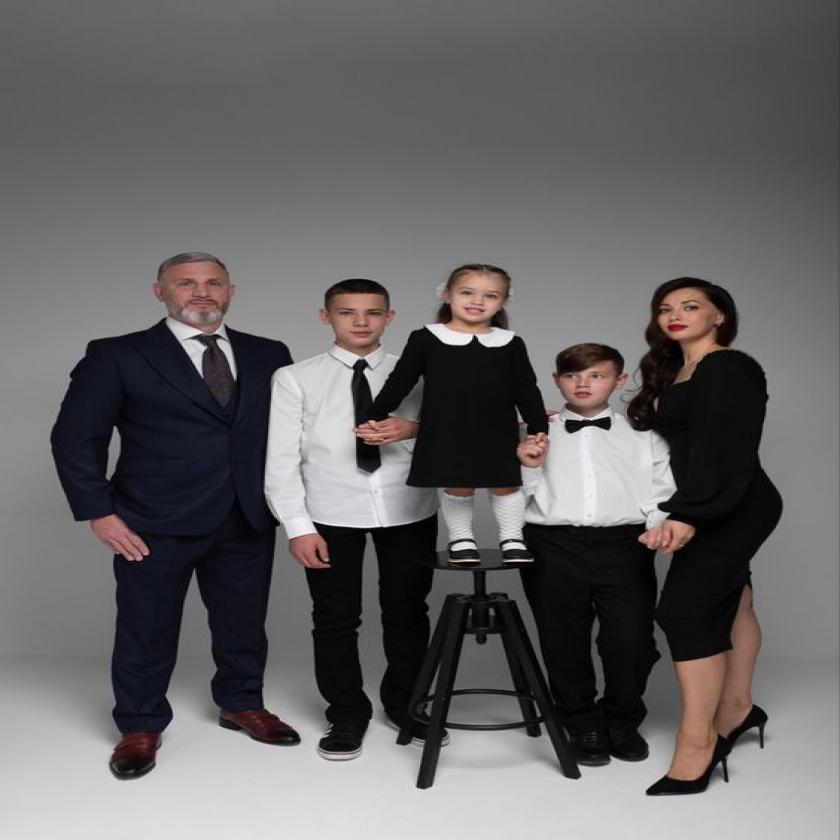Sin_casco: (153, 248, 242, 338), (644, 275, 739, 355), (551, 342, 637, 424), (437, 261, 522, 335), (318, 278, 398, 355)
